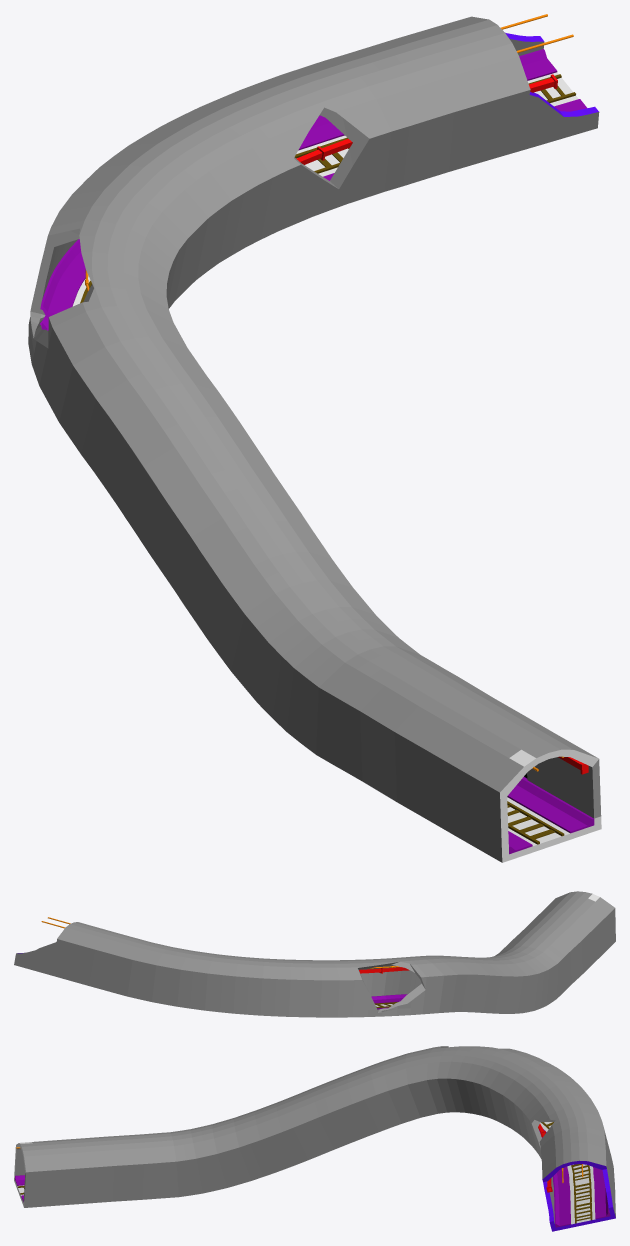
3 renders of one model, top to bottom at view 1: azimuth 30°, elevation 25°; view 2: azimuth 150°, elevation 25°; view 3: azimuth 270°, elevation 25°, orthographic. The views are drawn at different scales.
Parts seen in each view (by area): view 1: Cube.001; view 2: Cube.001; view 3: Cube.001.
Boxes of the visible parts, x1,y1,x2,y2 form: Cube.001: (28,14,601,862); Cube.001: (14,891,615,1017); Cube.001: (14,1046,615,1231).
Size of the model in its own units: 8967 by 5904 by 2575.
